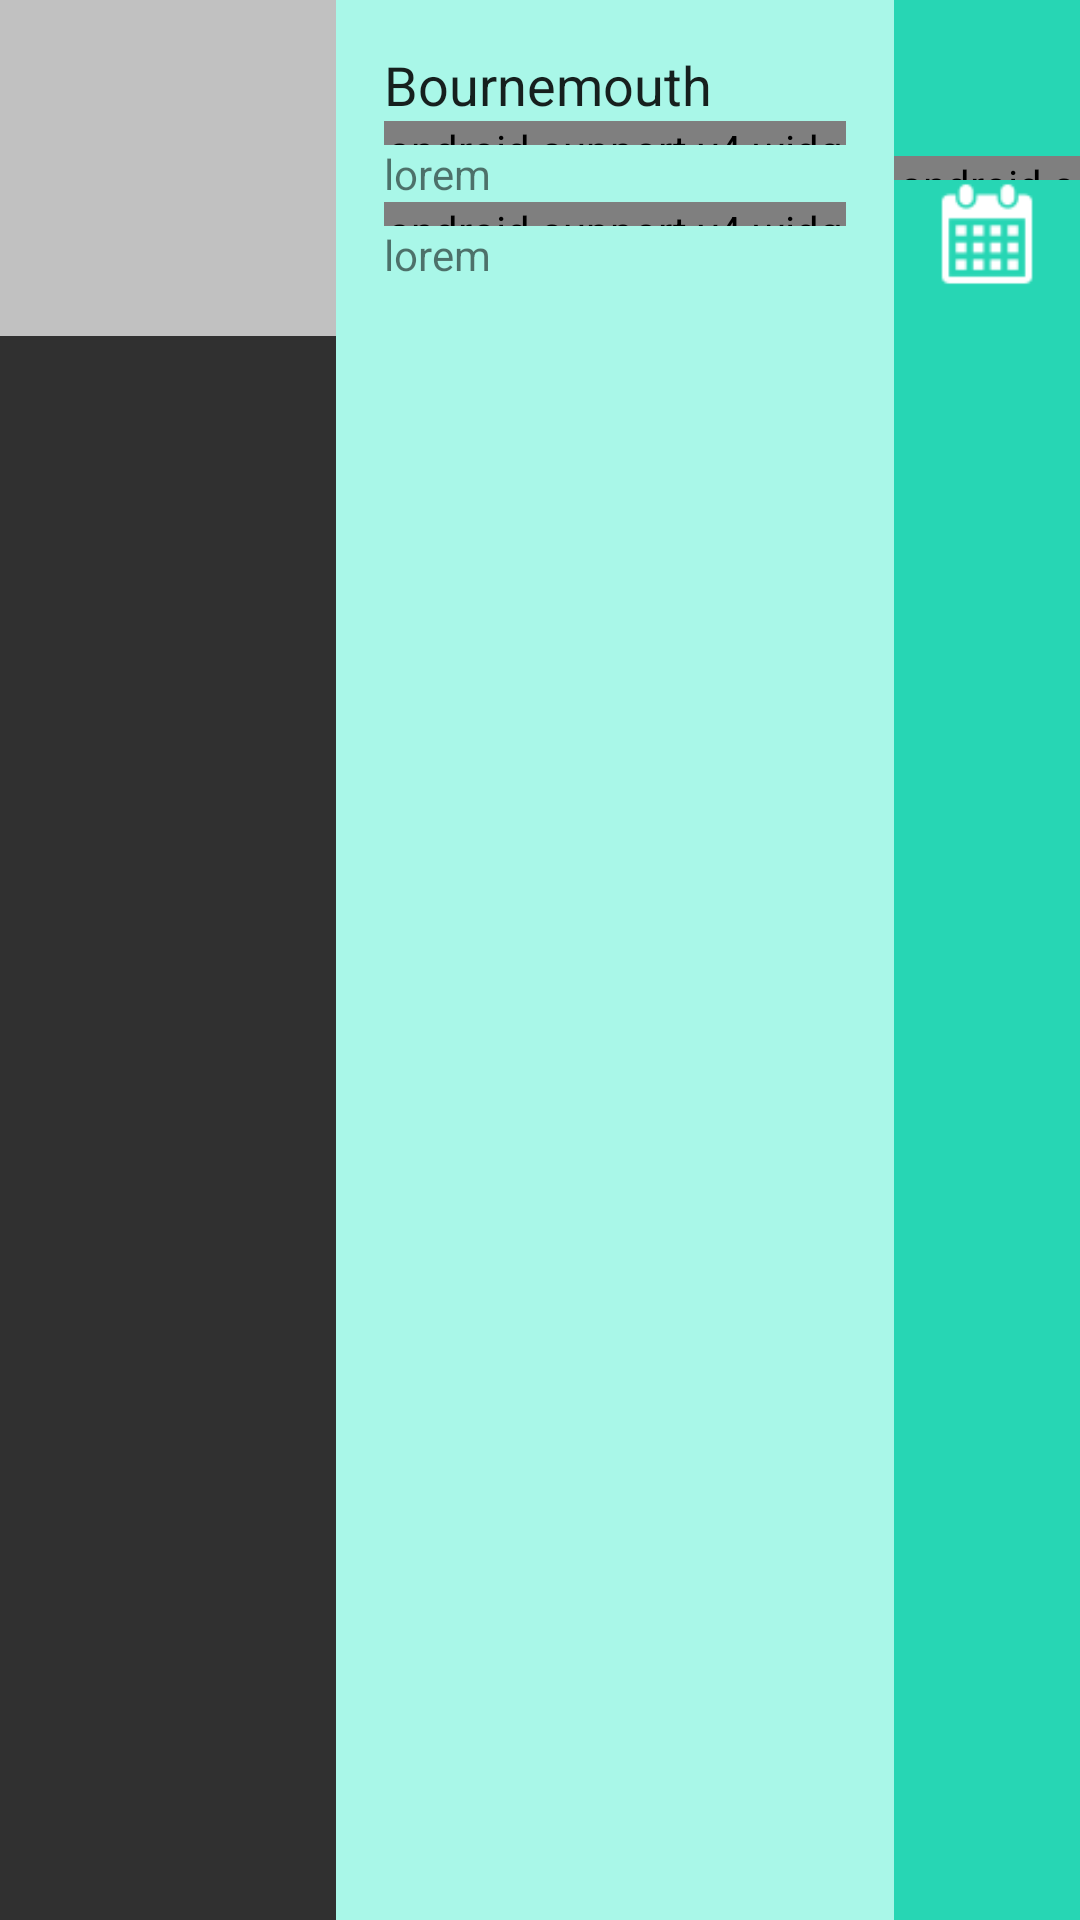

Icon click points for this 1080w x 1920h phone screenshot, format [x,y]:
fixture: [987,234]
